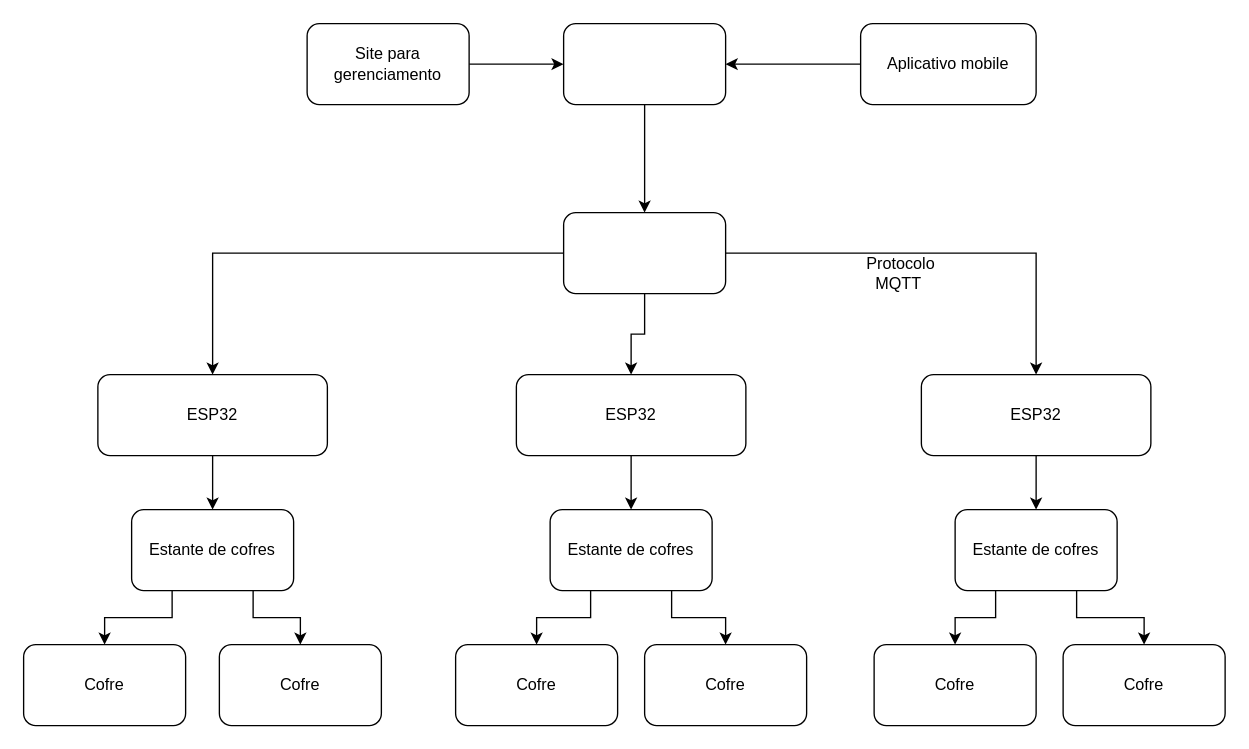
This 1249x749 diagram has some shape labels left out. The shapes that lost their labels are listed below. From the top down, each one's box as (x1, y1, x2, y2) in pixels, then its label:
(562, 22, 726, 105): Aplicação backend
(562, 211, 726, 294): Broker Mosquitto
